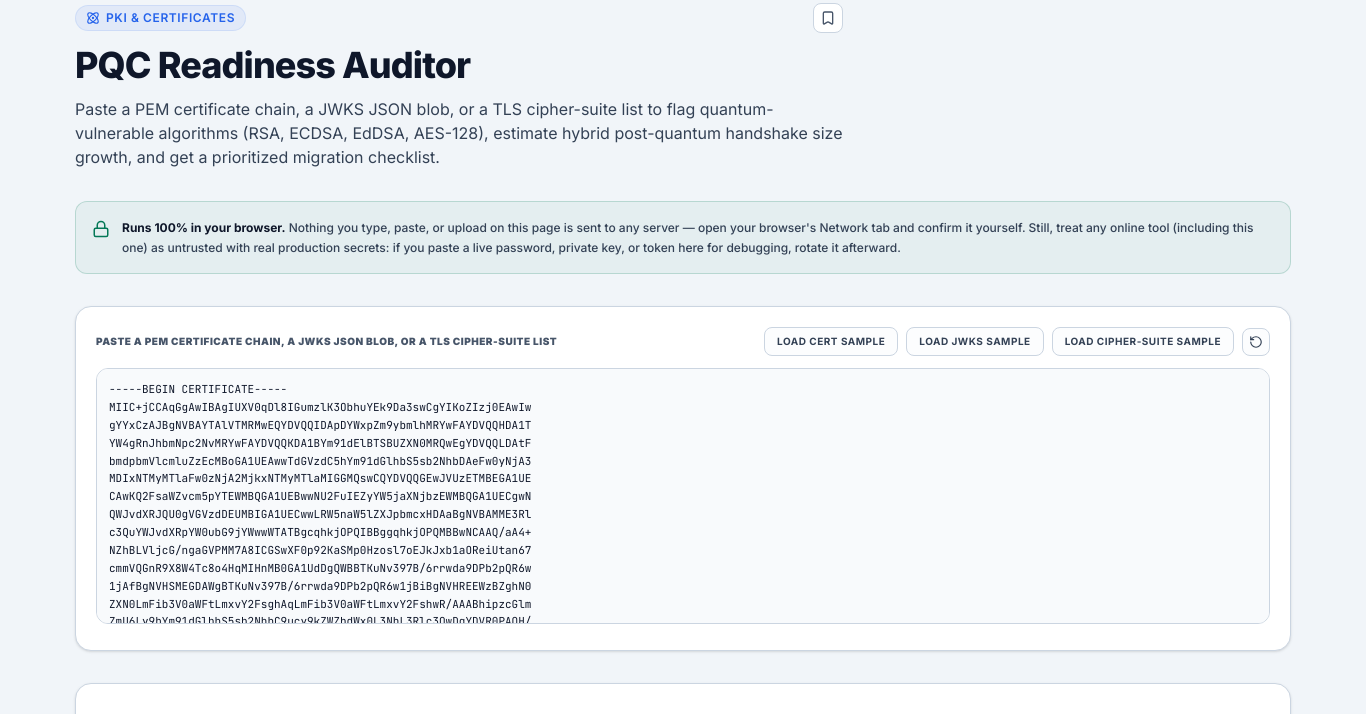
PqcReadinessAuditor page › clearing the input shows the empty-state prompt instead of a report
The width and height of the screenshot is (1366, 714).
Click the button titled "Clear" at (1256, 342), box [1242, 328, 1270, 356]
(page scrolled)
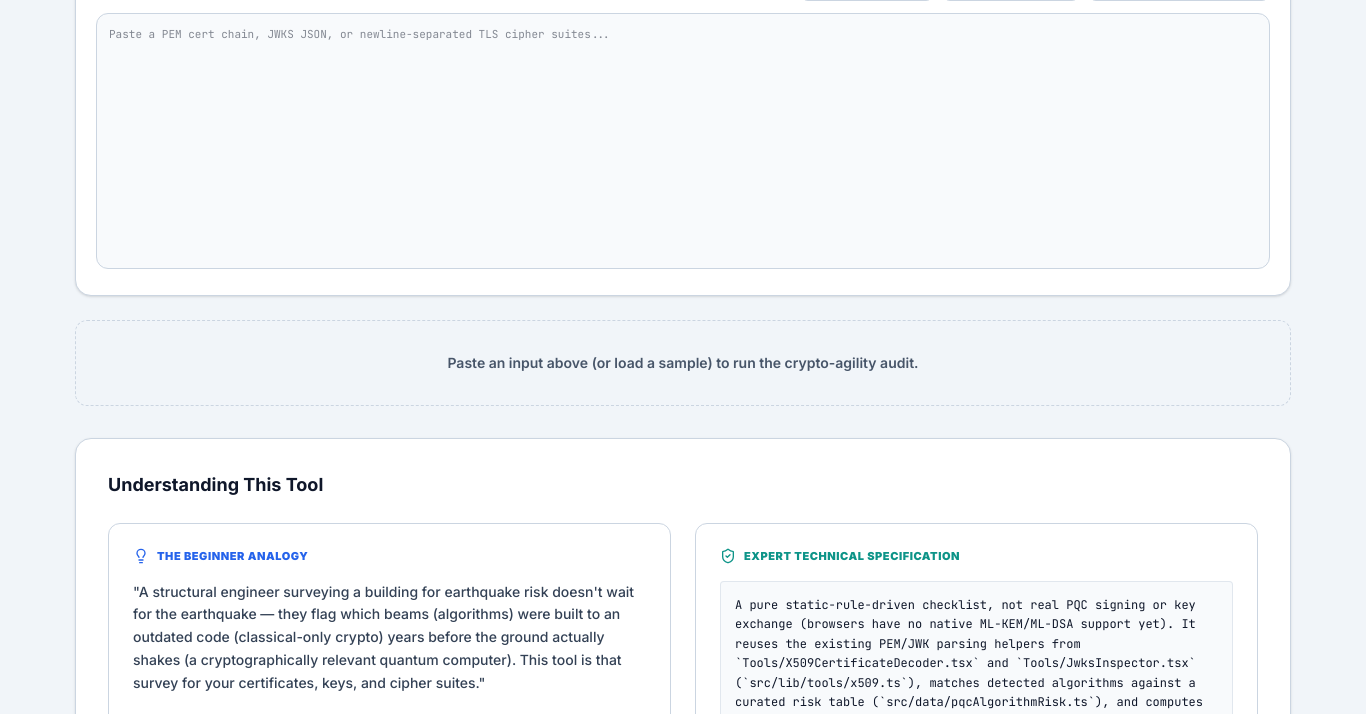
Now the text "Paste an input above" is shown, box [447, 354, 918, 371]
